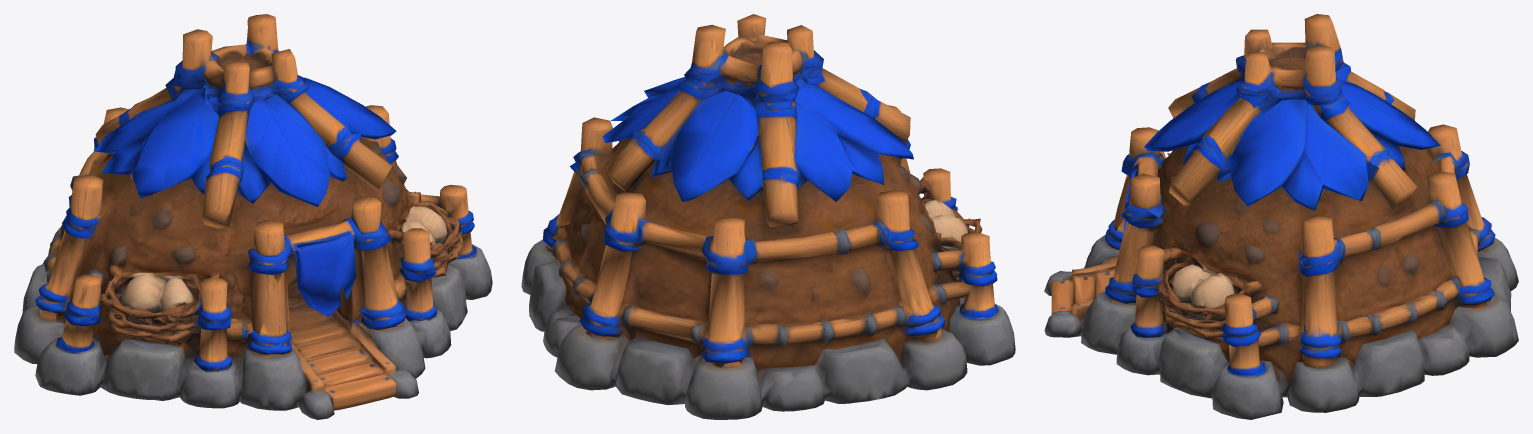
Rendered from source_12.glb.
The picture shows the model from 3 angles, left to right: view 1: azimuth 30°, elevation 25°; view 2: azimuth 150°, elevation 25°; view 3: azimuth 270°, elevation 25°; orthographic projection. The views are drawn at different scales.
Visible parts, largest first — view 1: tripo_part_0, tripo_part_5, tripo_part_4, tripo_part_6, tripo_part_2, tripo_part_3, tripo_part_13, tripo_part_7, tripo_part_1, tripo_part_8, tripo_part_11, tripo_part_12 (+5 smaller); view 2: tripo_part_0, tripo_part_2, tripo_part_5, tripo_part_15, tripo_part_13, tripo_part_3, tripo_part_4, tripo_part_6, tripo_part_12; view 3: tripo_part_0, tripo_part_2, tripo_part_5, tripo_part_6, tripo_part_1, tripo_part_15, tripo_part_7, tripo_part_8, tripo_part_9, tripo_part_19, tripo_part_18, tripo_part_4 (+1 smaller).
Boxes of the visible parts, x1,y1,x2,y2 form: tripo_part_0: (35,105,413,365); tripo_part_5: (95,14,391,228); tripo_part_4: (35,338,334,419); tripo_part_6: (237,77,396,207); tripo_part_2: (14,226,492,398); tripo_part_3: (56,270,232,372); tripo_part_13: (94,87,219,198); tripo_part_7: (288,298,403,410); tripo_part_1: (388,185,476,320); tripo_part_8: (248,217,406,330); tripo_part_11: (294,231,356,316); tripo_part_12: (121,273,194,324); tripo_part_0: (542,117,961,371); tripo_part_2: (521,214,967,419); tripo_part_5: (605,14,910,228); tripo_part_15: (650,90,763,201); tripo_part_13: (794,78,913,201); tripo_part_3: (919,168,998,318); tripo_part_4: (949,297,1015,365); tripo_part_6: (602,77,686,143); tripo_part_12: (925,200,967,250); tripo_part_0: (1125,124,1498,380); tripo_part_2: (1044,237,1518,419); tripo_part_5: (1168,14,1416,208); tripo_part_6: (1144,81,1379,210); tripo_part_1: (1130,245,1277,376); tripo_part_15: (1338,80,1440,171); tripo_part_7: (1051,255,1117,323); tripo_part_8: (1105,153,1164,303); tripo_part_9: (1169,264,1237,321); tripo_part_19: (1118,225,1144,283); tripo_part_18: (1129,173,1160,209); tripo_part_4: (1044,235,1119,295).
Size of the model in its own units: 0.9812 by 0.5831 by 0.9074.
1 material, 1 textured.
